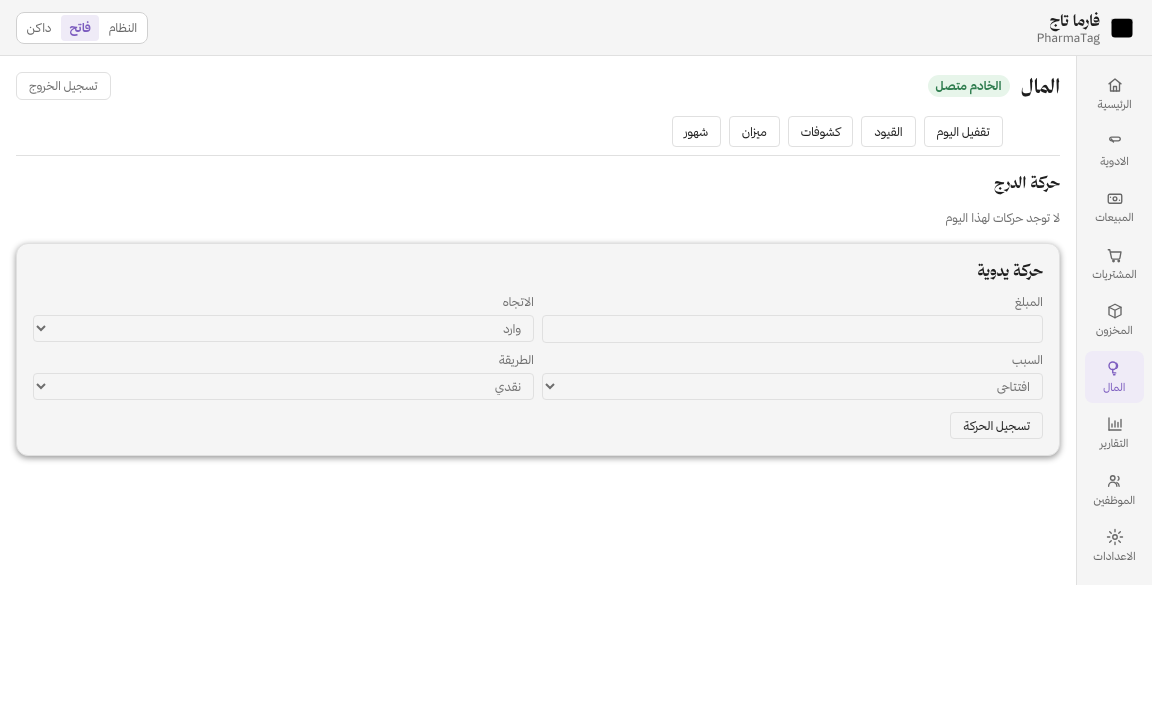
Test: MoneyPage — journals › shows the journals empty state in Arabic
The image size is (1152, 720).
Step 1. Click the tab "القيود" → click(889, 132), box [861,116,916,147]
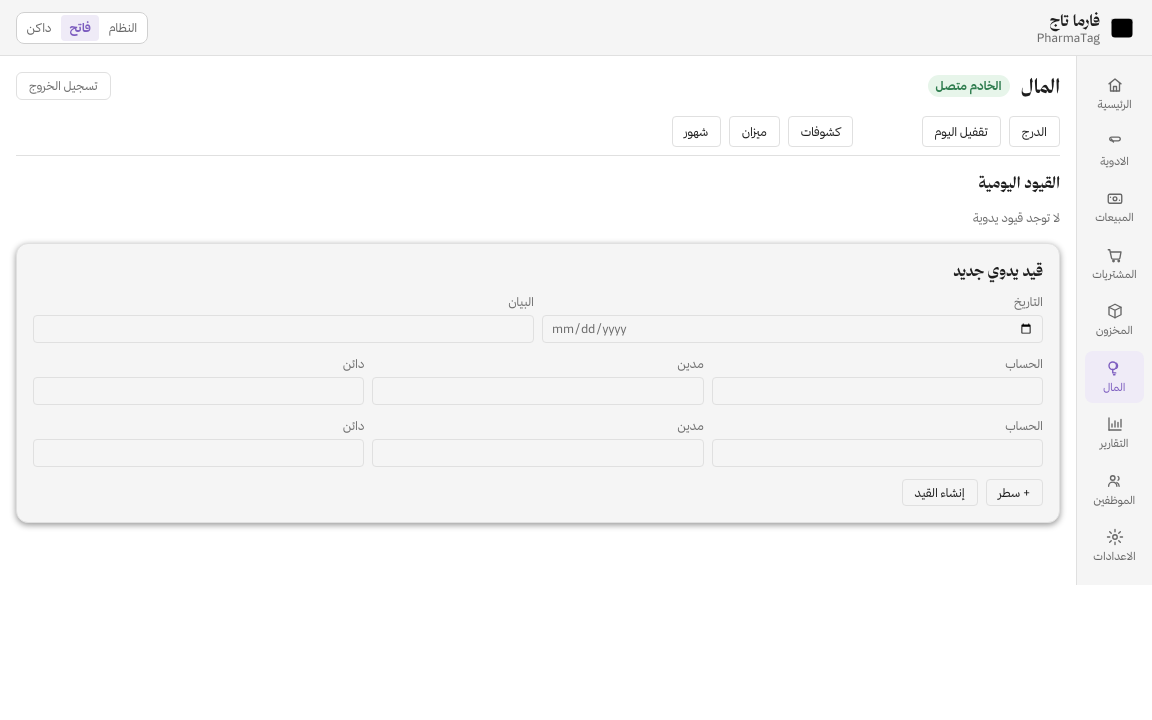
Check: the text "لا توجد قيود يدوية" is shown, box [973,210,1060,225]
